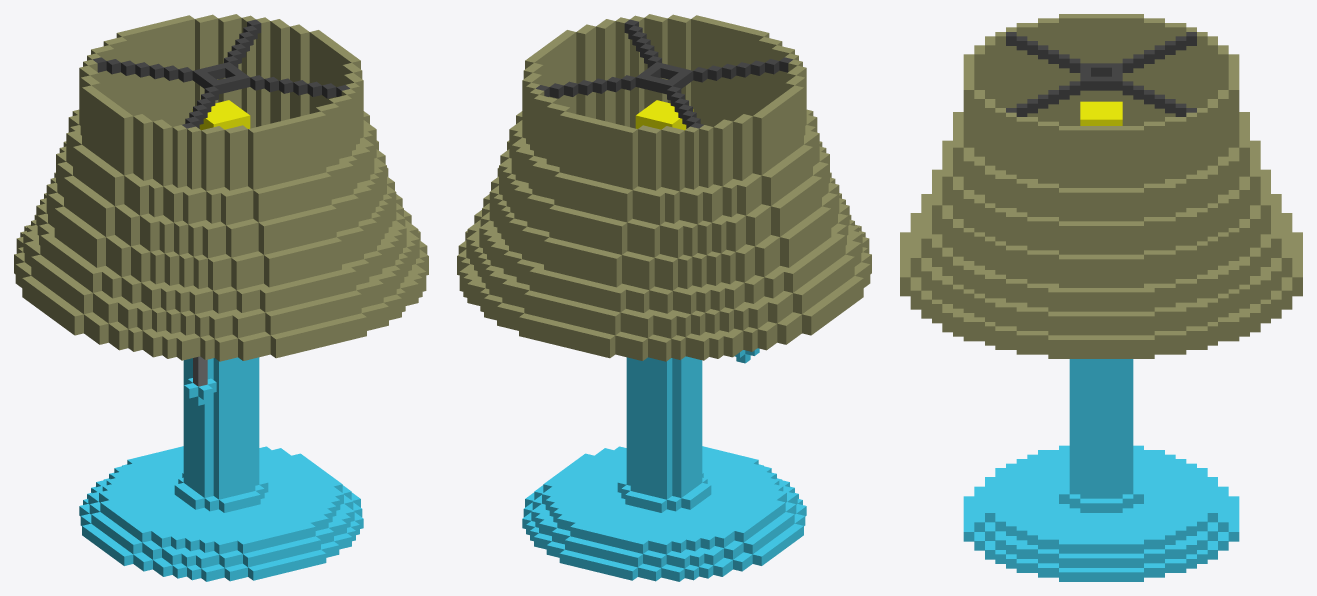
The model's file is Lamp-3.obj.
3 renders of one model, left to right at view 1: azimuth 30°, elevation 25°; view 2: azimuth 150°, elevation 25°; view 3: azimuth 270°, elevation 25°, orthographic.
Visible parts, largest first — view 1: Lamp-3; view 2: Lamp-3; view 3: Lamp-3.
Part boxes in pixels (box(x1,y1,x2,y2)): Lamp-3: box(14, 14, 428, 581); Lamp-3: box(457, 14, 871, 581); Lamp-3: box(900, 14, 1302, 581).
Bounding box in the file's own units: 38 × 47 × 38.
